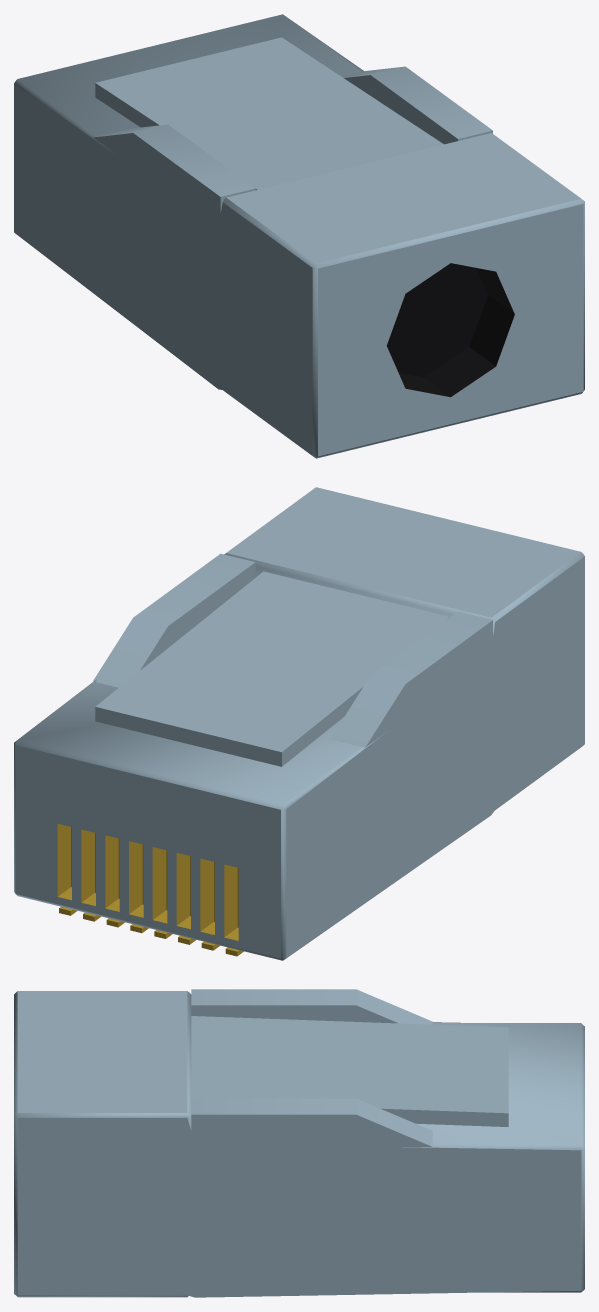
3 views of the same model, one above another, from view 1: azimuth 30°, elevation 25°; view 2: azimuth 150°, elevation 25°; view 3: azimuth 270°, elevation 25° (orthographic). The views are drawn at different scales.
Parts seen in each view (by area): view 1: rj45-body; view 2: rj45-body; view 3: rj45-body.
Part boxes in pixels (x1=…): rj45-body: x1=14, y1=14, x2=584, y2=458; rj45-body: x1=14, y1=487, x2=584, y2=960; rj45-body: x1=14, y1=989, x2=584, y2=1297.
Bounding box in the file's own units: 0.0117 × 0.008 × 0.0225.
